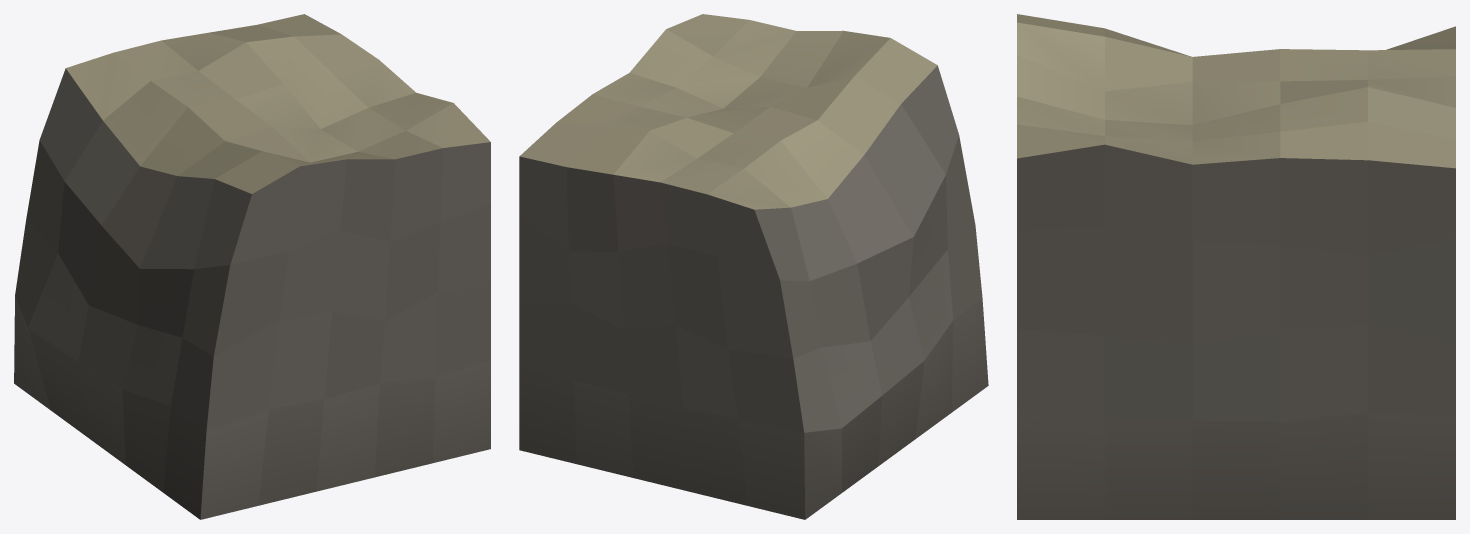
The model's file is roca_te.glb.
3 renders of one model, left to right at view 1: azimuth 30°, elevation 25°; view 2: azimuth 150°, elevation 25°; view 3: azimuth 270°, elevation 25°, orthographic. The views are drawn at different scales.
Visible parts, largest first — view 1: propforge-cuartos-roca_te; view 2: propforge-cuartos-roca_te; view 3: propforge-cuartos-roca_te.
Part boxes in pixels (left/top/right/bottom): propforge-cuartos-roca_te: left=14, top=14, right=490, bottom=519; propforge-cuartos-roca_te: left=519, top=14, right=988, bottom=519; propforge-cuartos-roca_te: left=1017, top=14, right=1455, bottom=519.
Size of the model in its own units: 0.9365 by 0.9748 by 1.
